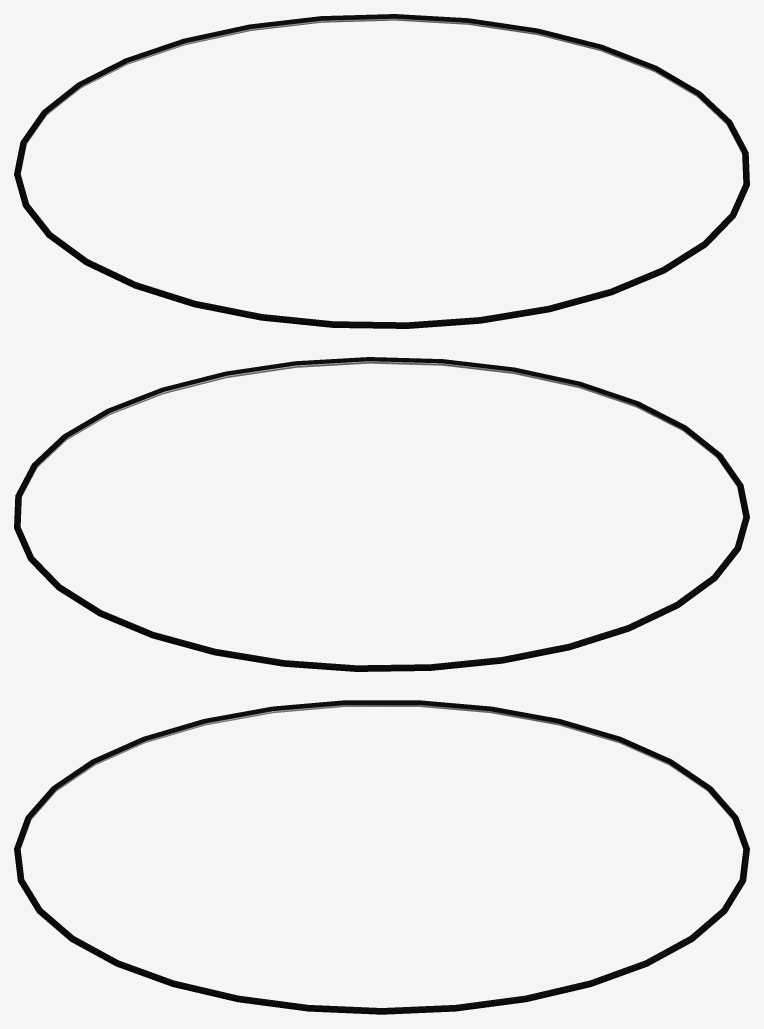
Rendered from BhimaEffect.obj.
The picture shows the model from 3 angles, top to bottom: view 1: azimuth 30°, elevation 25°; view 2: azimuth 150°, elevation 25°; view 3: azimuth 270°, elevation 25°; orthographic projection.
Visible parts, largest first — view 1: トーラス; view 2: トーラス; view 3: トーラス.
Boxes of the visible parts, x1=… form: トーラス: x1=14, y1=14, x2=749, y2=328; トーラス: x1=14, y1=357, x2=749, y2=671; トーラス: x1=14, y1=700, x2=749, y2=1014.
Bounding box in the file's own units: 1.92 × 0.0174 × 1.92.
